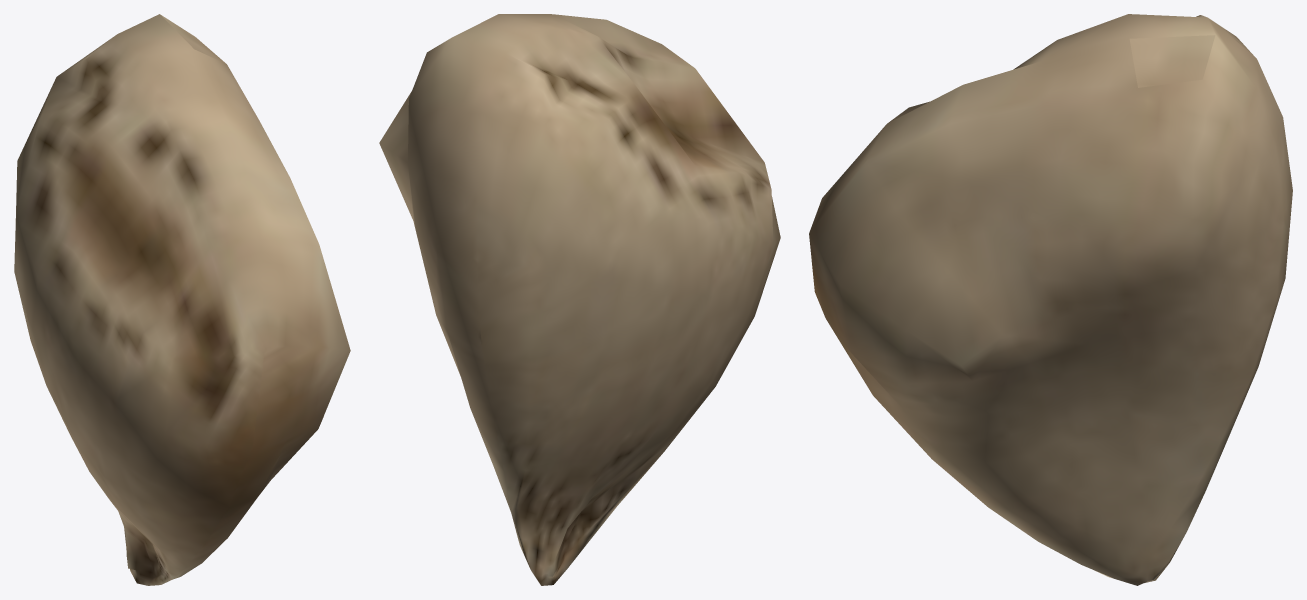
File: Mandibular_Molar3.glb
The picture shows the model from 3 angles, left to right: view 1: azimuth 30°, elevation 25°; view 2: azimuth 150°, elevation 25°; view 3: azimuth 270°, elevation 25°; orthographic projection. The views are drawn at different scales.
Visible parts, largest first — view 1: Molar3; view 2: Molar3; view 3: Molar3.
Part boxes in pixels (x1,y1,x2,y2): Molar3: (14, 14, 350, 585); Molar3: (379, 14, 780, 585); Molar3: (809, 14, 1292, 585).
Bounding box in the file's own units: 0.0162 × 0.0309 × 0.0233.
Materials: 1 (1 with a texture image).
